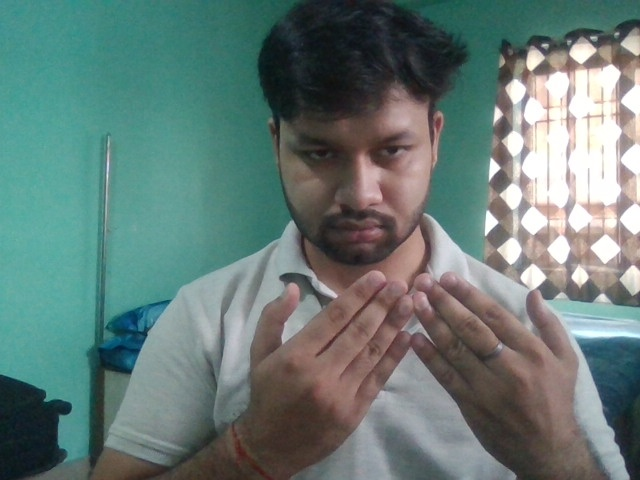Thank You: (246, 265, 583, 474)
